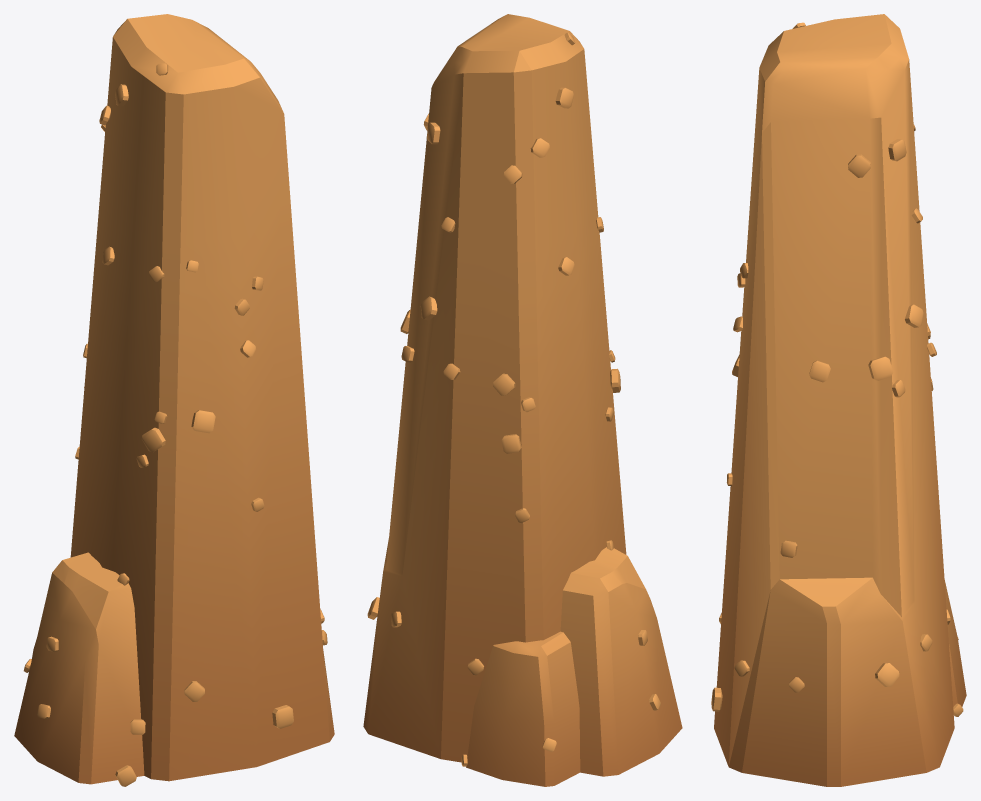
Rendered from GoldSource1.fbx.
3 views of the same model, side by side, from view 1: azimuth 30°, elevation 25°; view 2: azimuth 150°, elevation 25°; view 3: azimuth 270°, elevation 25° (orthographic).
Visible parts, largest first — view 1: GoldSource1_LOD0; view 2: GoldSource1_LOD0; view 3: GoldSource1_LOD0.
Part boxes in pixels (x1,y1,x2,y2): GoldSource1_LOD0: (14,14,334,786); GoldSource1_LOD0: (363,14,682,786); GoldSource1_LOD0: (711,14,966,786).
Size of what is drawn, in the model's own units: 2.26 by 5.4 by 1.79.
